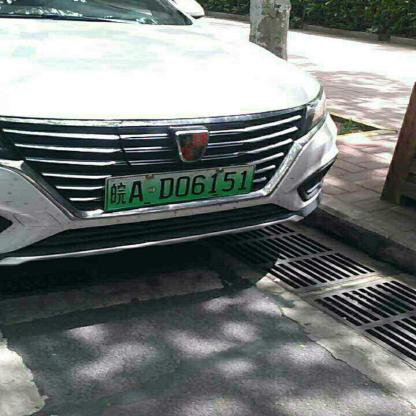lp: (104, 164, 256, 209)
